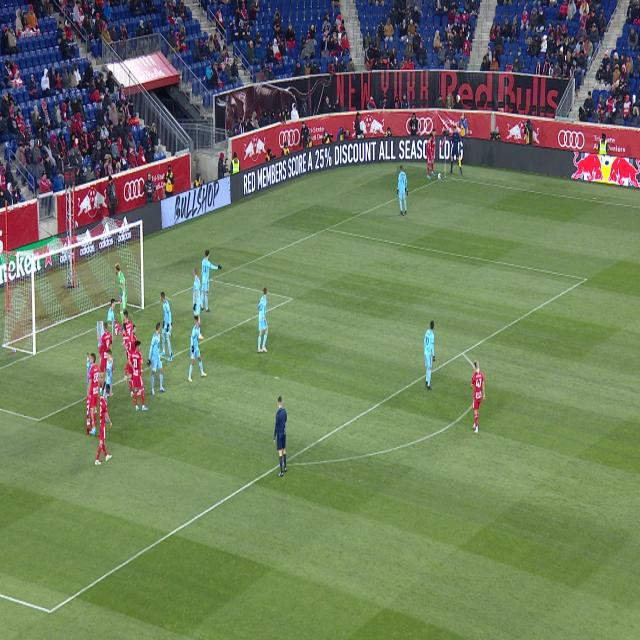football: (437, 173, 442, 180)
goalkeeper: (116, 264, 127, 335)
player: (92, 385, 112, 466), (147, 322, 166, 395), (129, 340, 148, 411), (188, 317, 207, 383), (202, 250, 222, 312), (122, 324, 137, 397), (87, 354, 100, 435), (98, 322, 112, 396), (471, 360, 485, 434), (160, 292, 172, 361), (424, 321, 435, 390), (257, 288, 268, 352), (95, 350, 107, 406), (106, 298, 116, 353), (398, 166, 407, 215), (194, 268, 201, 324), (123, 311, 133, 340), (125, 351, 128, 381), (198, 327, 204, 339), (109, 358, 113, 373), (137, 388, 141, 396), (95, 415, 97, 429), (125, 343, 128, 350), (105, 416, 108, 422), (109, 356, 111, 362)
referee: (273, 396, 287, 477)
